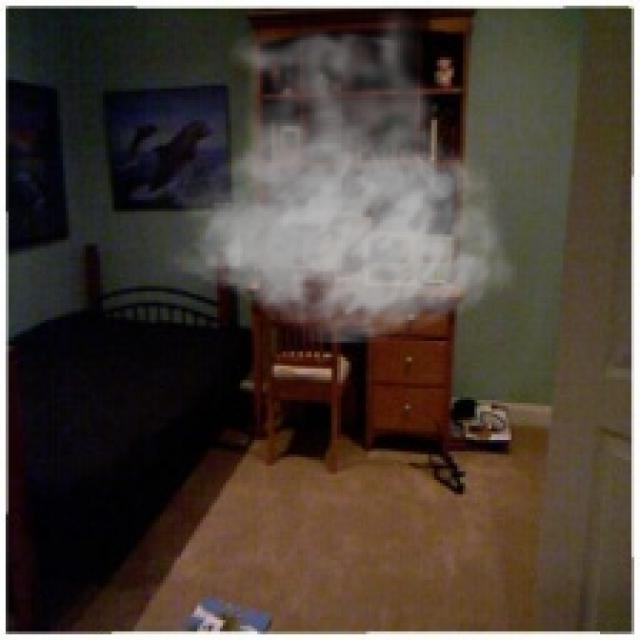Smoke: (165, 0, 518, 346)
